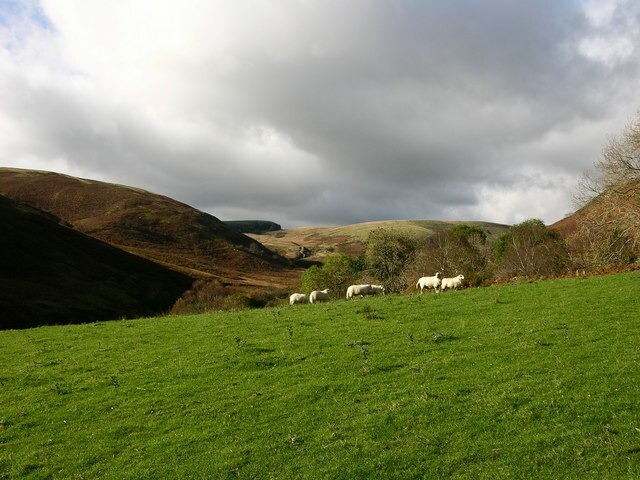standing: (414, 271, 442, 294), (443, 272, 465, 293)
